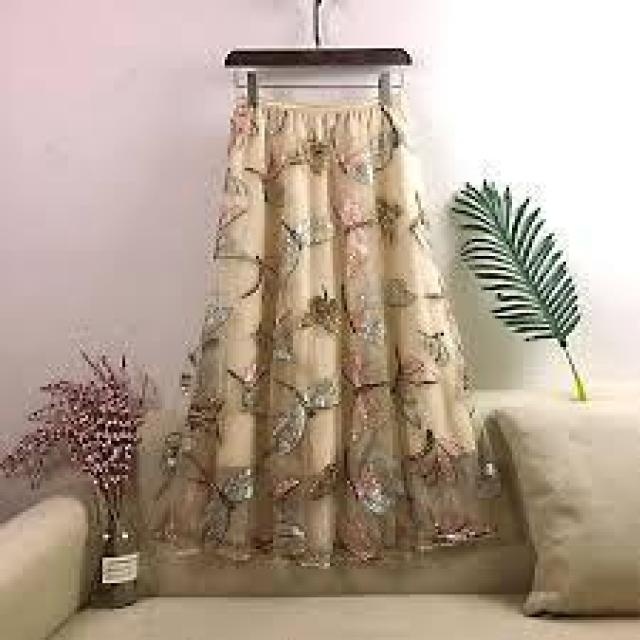skirt: (155, 82, 519, 558)
